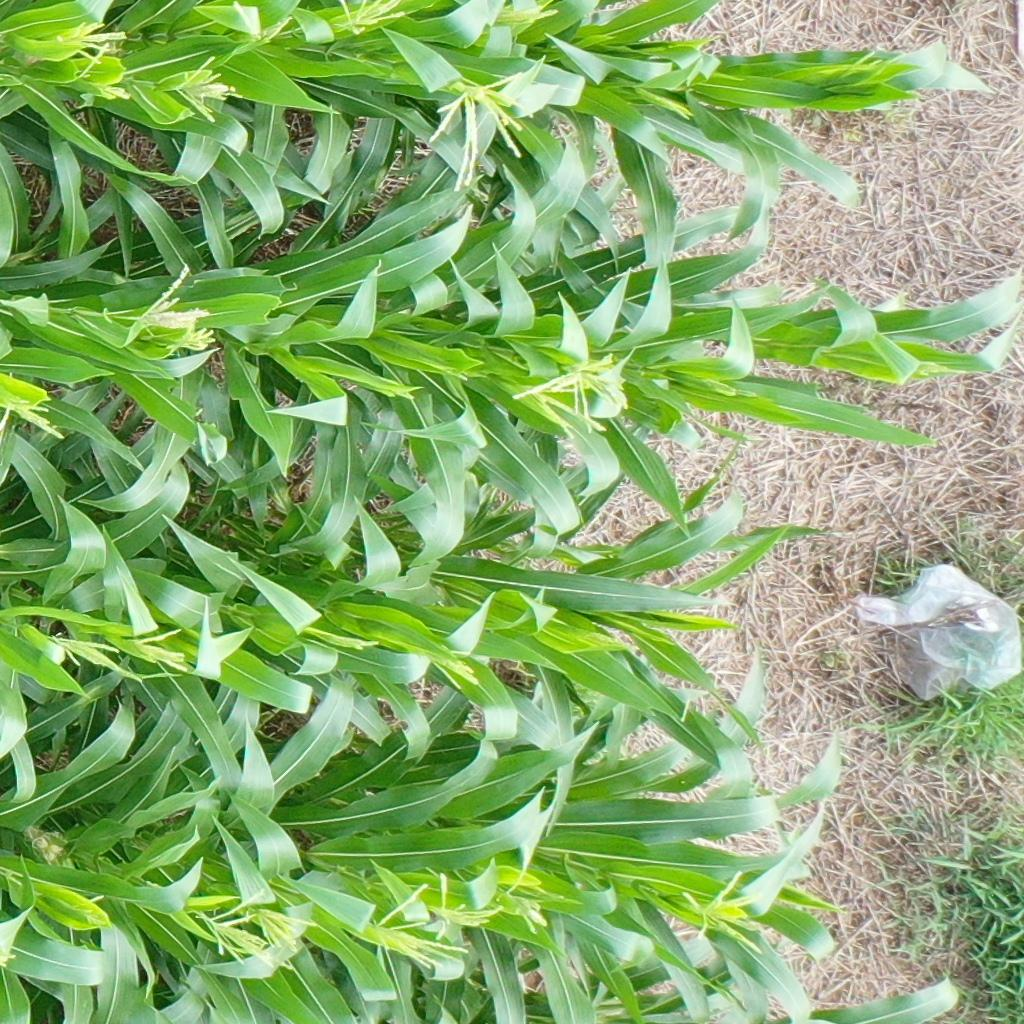Tassel: (422, 64, 539, 195), (362, 880, 469, 983), (506, 352, 621, 440), (119, 267, 218, 362), (679, 861, 766, 954), (198, 895, 299, 974), (418, 872, 502, 940), (46, 631, 138, 692), (172, 49, 243, 125), (1, 387, 72, 441), (257, 895, 323, 951), (506, 851, 551, 933), (49, 21, 128, 63), (131, 623, 194, 672), (232, 1, 293, 47), (75, 64, 134, 108), (331, 1, 406, 35), (632, 82, 694, 119), (434, 644, 479, 692), (833, 47, 881, 90), (495, 1, 561, 30), (76, 893, 114, 928)
